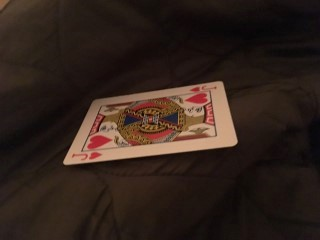JackOfHearts: (63, 80, 238, 164)
